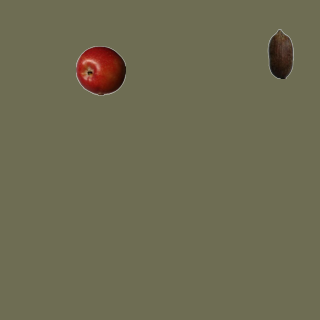Apple Braeburn: (75, 45, 125, 95)
Nut Pecan: (255, 28, 305, 78)
